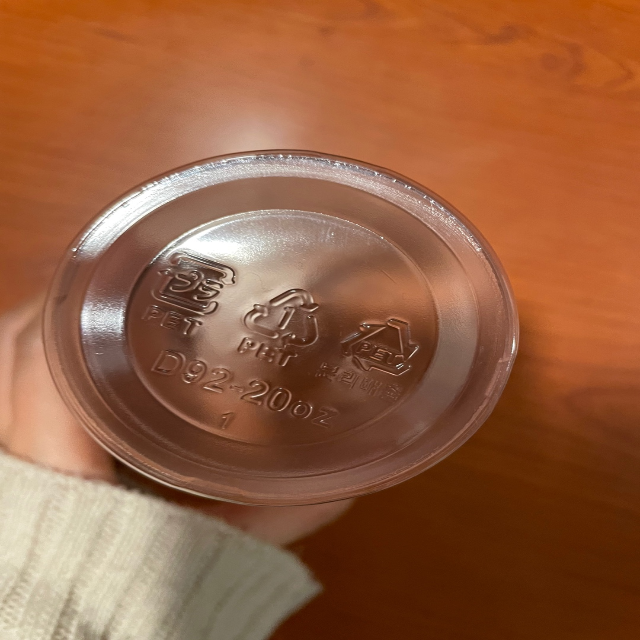pet: (320, 312, 419, 406), (139, 246, 237, 340), (236, 275, 320, 372)
